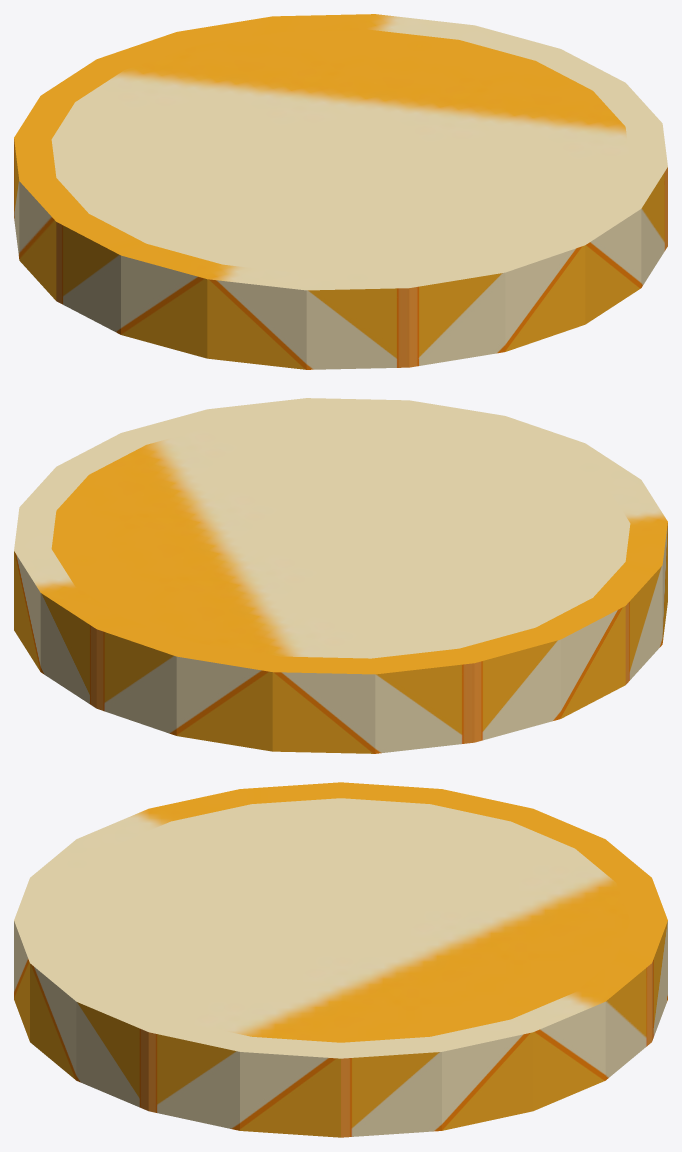
The model's file is RoundPodium.fbx.
3 renders of one model, top to bottom at view 1: azimuth 30°, elevation 25°; view 2: azimuth 150°, elevation 25°; view 3: azimuth 270°, elevation 25°, orthographic.
Visible parts, largest first — view 1: RoundPodium; view 2: RoundPodium; view 3: RoundPodium.
Boxes of the visible parts, x1=… form: RoundPodium: x1=14, y1=14, x2=667, y2=369; RoundPodium: x1=14, y1=398, x2=667, y2=753; RoundPodium: x1=14, y1=782, x2=667, y2=1137.
Bounding box in the file's own units: 1500 × 200 × 1500.
Materials: 1 (1 with a texture image).
